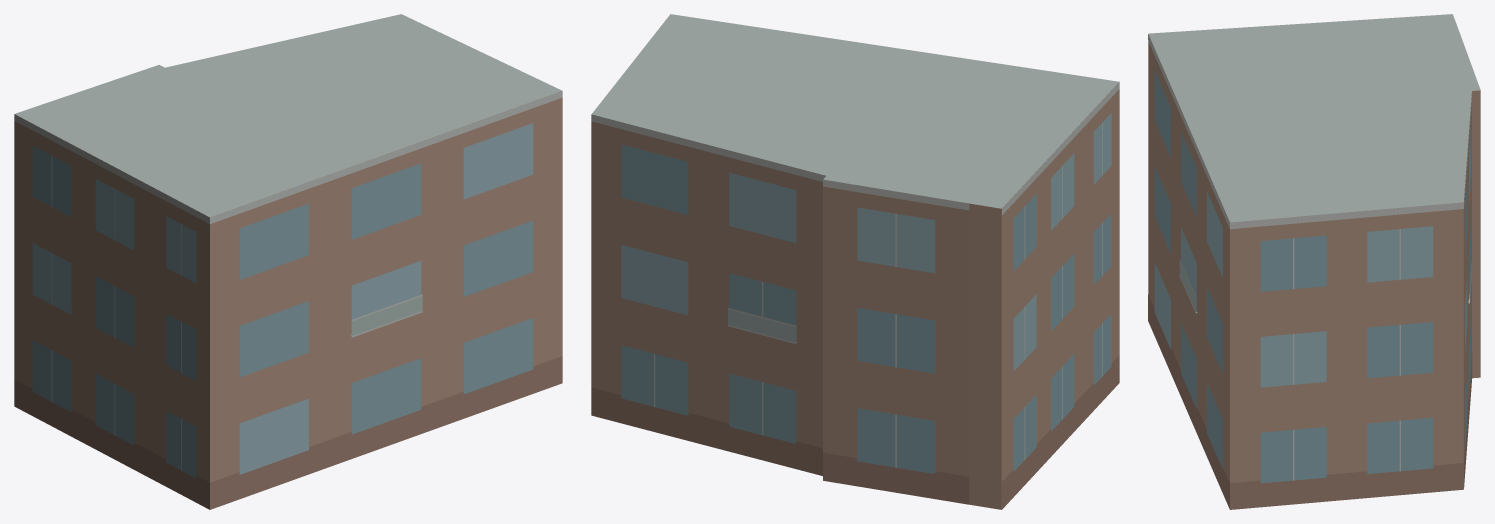
File: survey-upis-32760343.glb
3 renders of one model, left to right at view 1: azimuth 30°, elevation 25°; view 2: azimuth 150°, elevation 25°; view 3: azimuth 270°, elevation 25°, orthographic. The views are drawn at different scales.
Parts seen in each view (by area): view 1: survey-upis-32760343.tmp; view 2: survey-upis-32760343.tmp; view 3: survey-upis-32760343.tmp.
Boxes of the visible parts, left/top/right/bottom form: survey-upis-32760343.tmp: left=14, top=14, right=562, bottom=509; survey-upis-32760343.tmp: left=591, top=14, right=1119, bottom=509; survey-upis-32760343.tmp: left=1148, top=14, right=1480, bottom=509.
Bounding box in the file's own units: 16.36 × 10.5 × 11.03.
